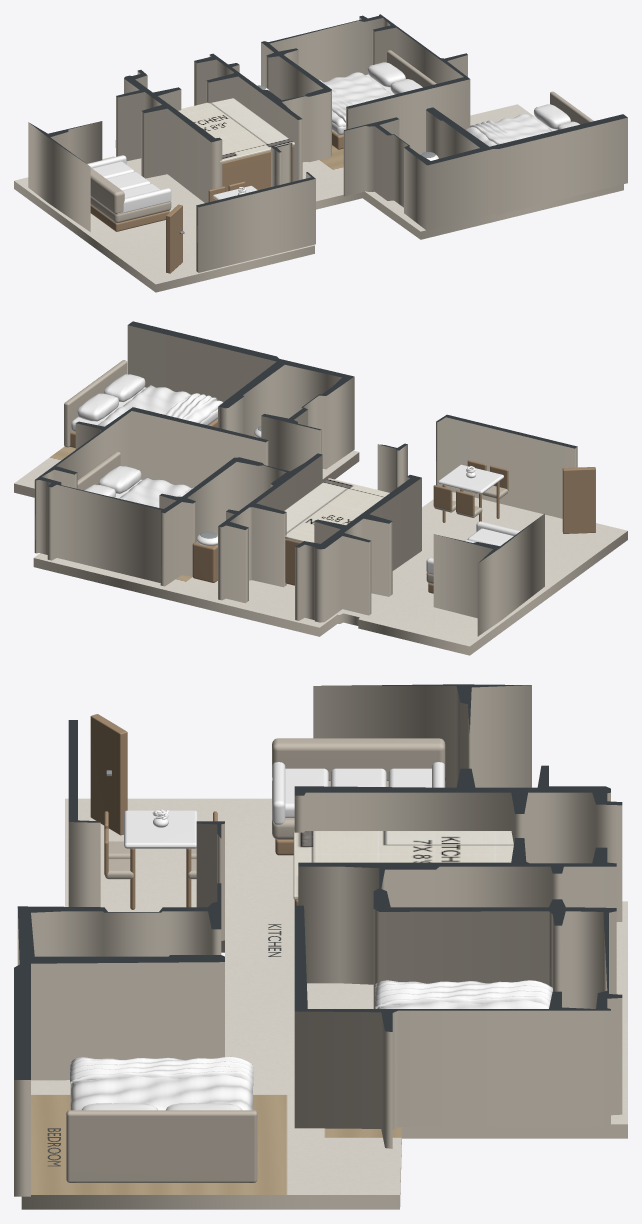
The model's file is carina-vega-unit-07.glb.
The picture shows the model from 3 angles, top to bottom: view 1: azimuth 30°, elevation 25°; view 2: azimuth 150°, elevation 25°; view 3: azimuth 270°, elevation 25°; orthographic projection. The views are drawn at different scales.
Parts seen in each view (by area): view 1: Partition walls, Apartment floor, Stone worktop, Kitchen cabinets, Draped bed linen, Draped bed linen.002, Open oak door, Sofa back, Upholstered sofa frame, Padded armrest, Sofa plinth, Upholstered headboard (+7 smaller); view 2: Partition walls, Apartment floor, Stone worktop, Open oak door, Draped bed linen.002, Upholstered headboard.001, Draped bed linen, Marble dining top, Vanity cabinet, Tailored pillow.003, Tailored pillow, Tailored pillow.002 (+4 smaller); view 3: Partition walls, Apartment floor, Upholstered headboard.001, Stone worktop, Sofa back, Draped bed linen.002, Open oak door, Draped bed linen.001, Draped bed linen.003, Marble dining top, Draped bed linen, Seat cushion (+3 smaller).
Boxes of the visible parts, box(x1,y1,x2,y2) form: Partition walls: box(28, 14, 627, 272); Apartment floor: box(14, 104, 623, 292); Stone worktop: box(178, 98, 294, 162); Kitchen cabinets: box(222, 145, 293, 191); Draped bed linen: box(324, 72, 393, 126); Draped bed linen.002: box(465, 113, 551, 146); Open oak door: box(166, 204, 182, 273); Sofa back: box(90, 168, 124, 214); Upholstered sofa frame: box(90, 197, 171, 223); Padded armrest: box(115, 188, 171, 214); Sofa plinth: box(90, 205, 169, 231); Upholstered headboard: box(387, 50, 436, 87); Partition walls: box(34, 321, 577, 636); Apartment floor: box(14, 446, 627, 655); Stone worktop: box(284, 478, 389, 542); Open oak door: box(562, 467, 595, 533); Draped bed linen.002: box(98, 384, 223, 426); Upholstered headboard.001: box(64, 360, 127, 447); Draped bed linen: box(119, 477, 191, 507); Marble dining top: box(438, 464, 503, 493); Vanity cabinet: box(192, 541, 217, 582); Tailored pillow.003: box(77, 393, 118, 421); Tailored pillow: box(98, 466, 141, 493); Tailored pillow.002: box(104, 374, 145, 401); Partition walls: box(14, 684, 622, 1196); Apartment floor: box(21, 798, 627, 1209); Upholstered headboard.001: box(66, 1110, 257, 1182); Stone worktop: box(293, 831, 513, 899); Sofa back: box(272, 738, 445, 780); Draped bed linen.002: box(70, 1057, 252, 1110); Open oak door: box(90, 714, 127, 835); Draped bed linen.001: box(375, 980, 552, 1008); Draped bed linen.003: box(70, 1056, 253, 1085); Marble dining top: box(124, 810, 197, 848); Draped bed linen: box(375, 980, 552, 1008); Seat cushion: box(285, 768, 328, 817).
Size of the model in its own units: 9.36 by 1.44 by 6.1.
Materials: 12 (2 with a texture image).
